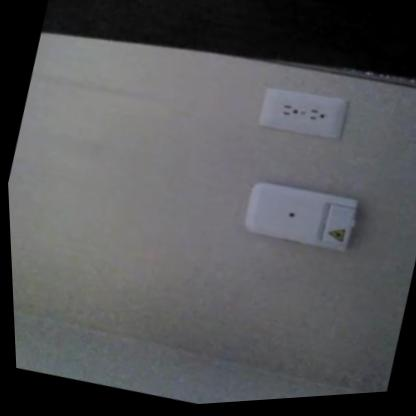OUTLET: (253, 77, 350, 146)
